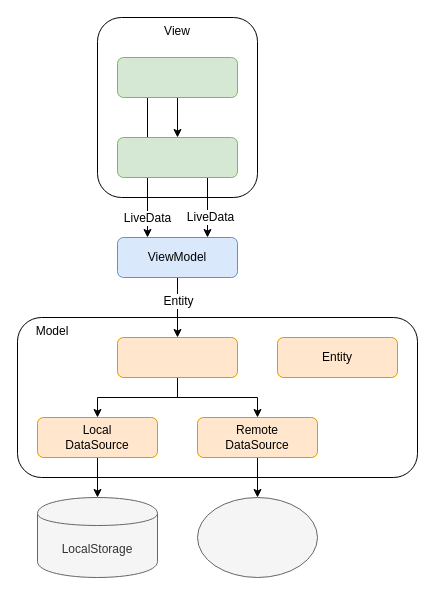
Image size: 435x595. Some labels were removed from this diagram. Here are the shapes that lost their labels. From the top down, the centre of each, then its label:
At (177,77): "Activity".
At (177,157): "Fragment".
At (177,357): "Repository".
At (257,537): "WebService".
